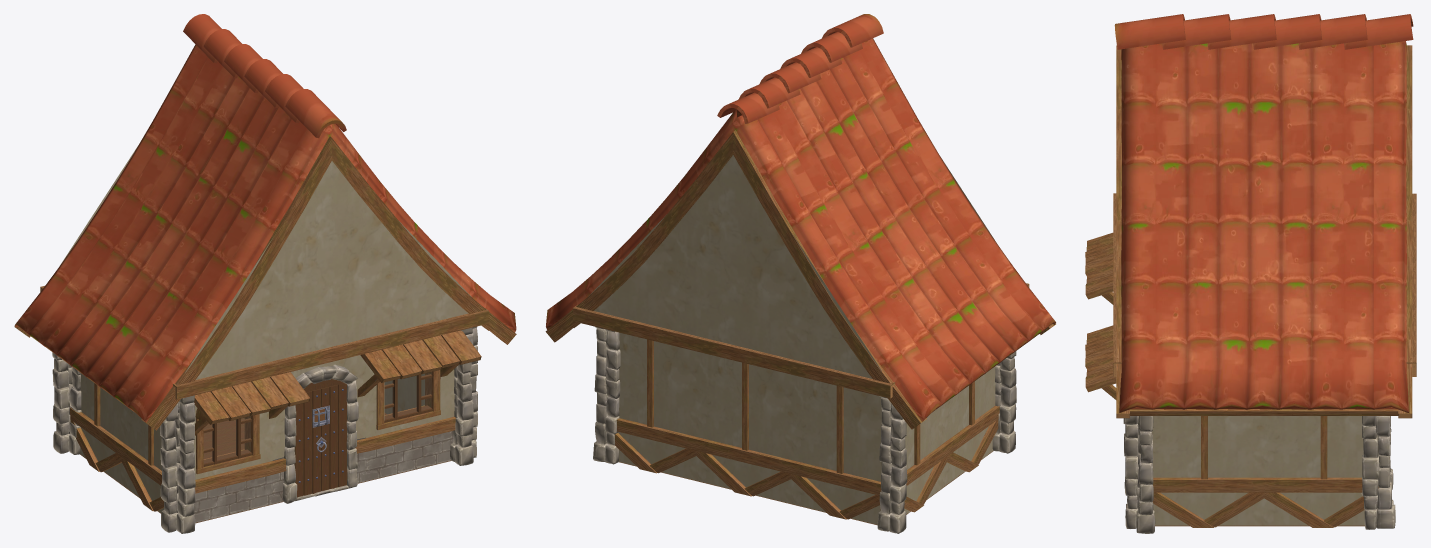
Rendered from Apothecary.glb.
3 views of the same model, side by side, from view 1: azimuth 30°, elevation 25°; view 2: azimuth 150°, elevation 25°; view 3: azimuth 270°, elevation 25° (orthographic). The views are drawn at different scales.
Visible parts, largest first — view 1: Roof, Walls, Door, Floor; view 2: Roof, Walls, Floor; view 3: Roof, Walls, Floor.
Boxes of the visible parts, x1,y1,x2,y2 form: Roof: [14, 14, 516, 430]; Walls: [52, 326, 481, 533]; Door: [294, 379, 347, 497]; Floor: [53, 367, 477, 517]; Roof: [545, 14, 1055, 429]; Walls: [593, 326, 1016, 533]; Floor: [594, 365, 1014, 519]; Roof: [1113, 14, 1416, 418]; Walls: [1085, 232, 1395, 533]; Floor: [1124, 428, 1395, 527].
Bounding box in the file's own units: 8.25 × 8.02 × 5.54.
Materials: 9 (8 with a texture image).
